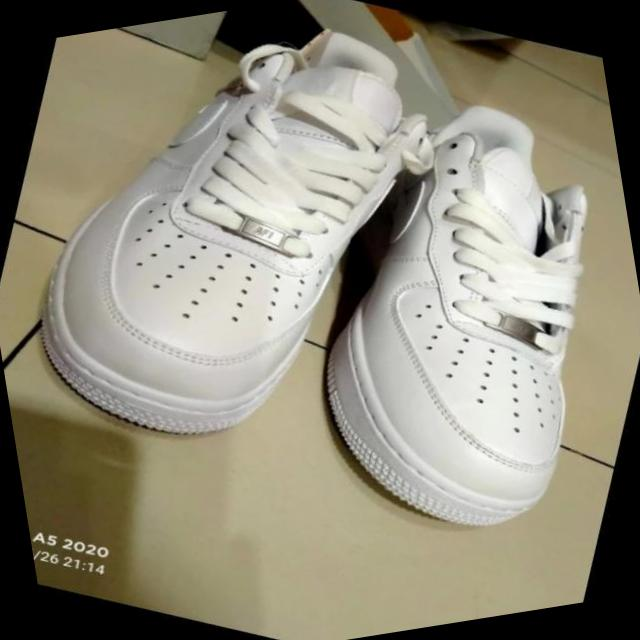nike_original_airforce: (0, 0, 508, 522), (233, 47, 640, 582)
